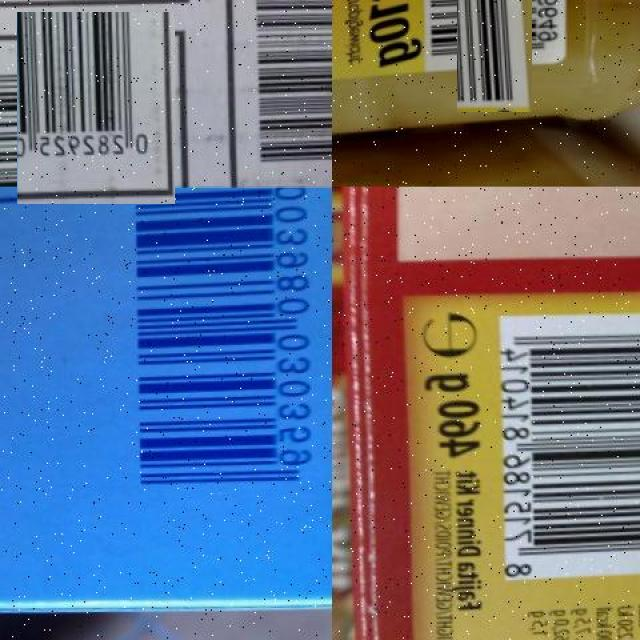Barcode: (105, 187, 332, 522), (500, 311, 640, 584), (9, 20, 184, 196), (438, 0, 550, 94)
